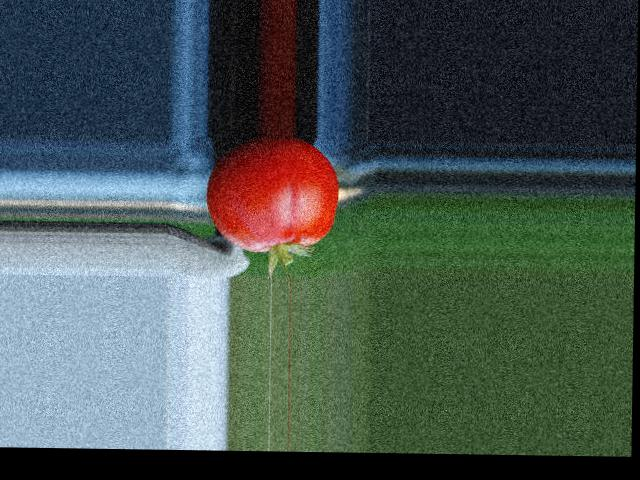tomato: (206, 135, 340, 253)
